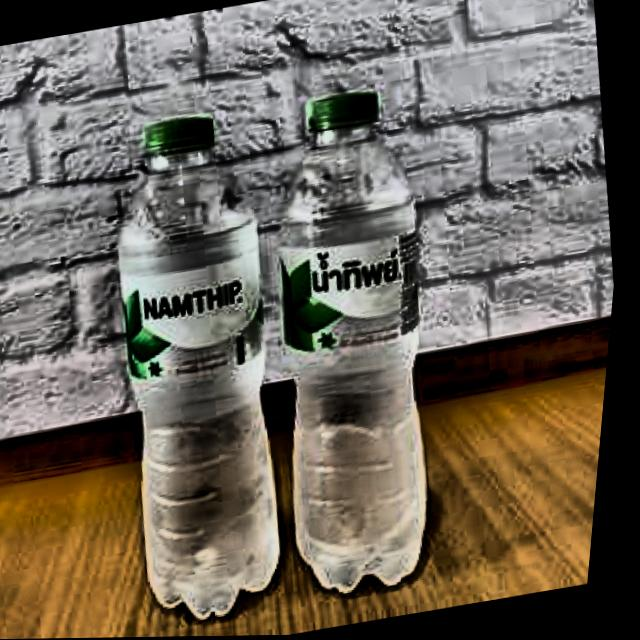Bottles: (65, 96, 340, 639), (222, 70, 497, 612)
